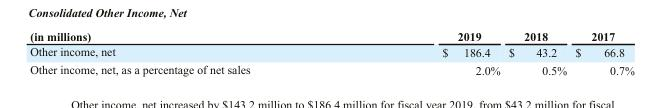table: (29, 29, 633, 76)
table column: (29, 29, 345, 76), (345, 29, 503, 76), (503, 29, 570, 76), (570, 29, 633, 76)
table column header: (29, 29, 633, 43)
table row: (29, 43, 633, 60), (29, 60, 633, 76), (29, 29, 633, 43)
